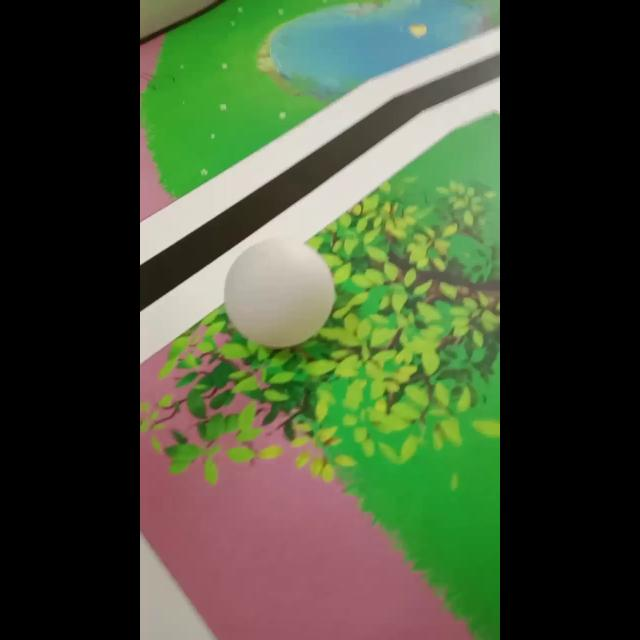white ball: (222, 236, 336, 350)
